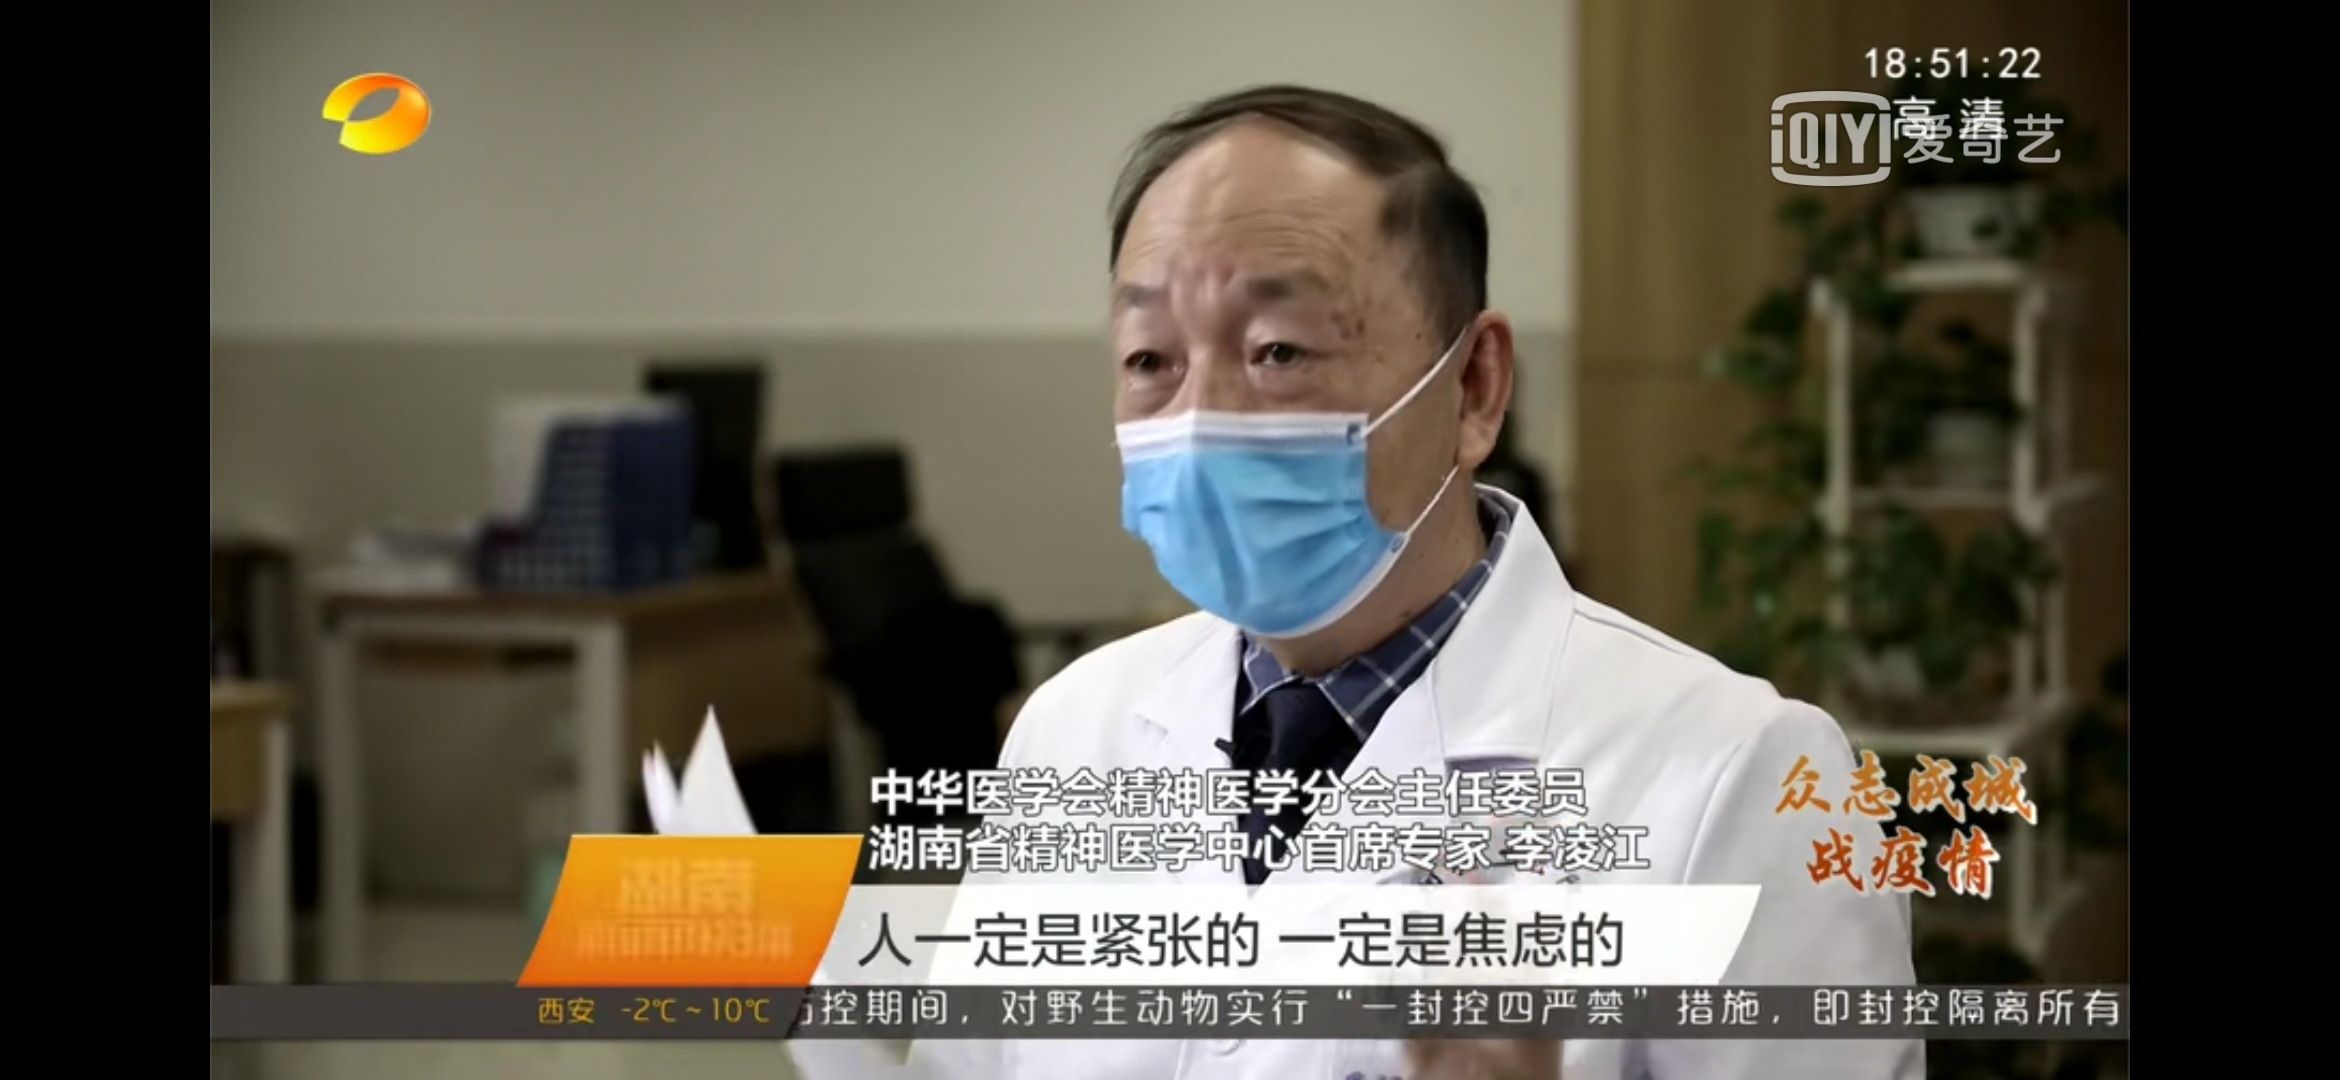correctlyWear: (1085, 233, 1515, 641)
